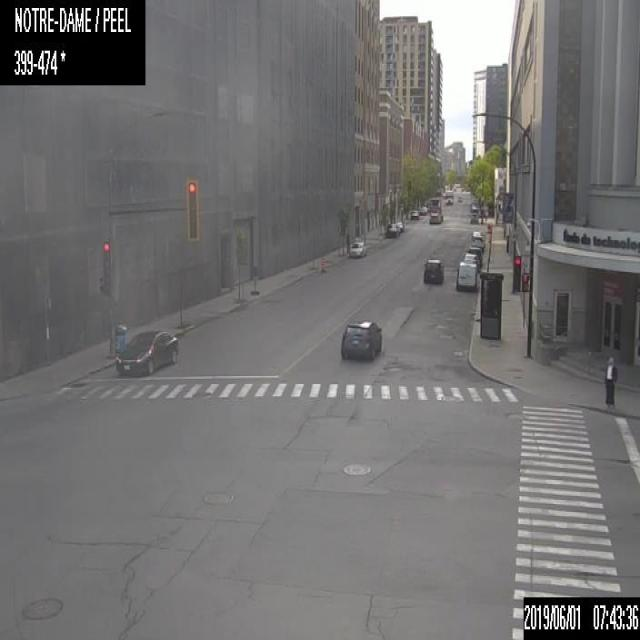construction: (318, 255, 326, 276)
pedestrian: (603, 356, 617, 404), (345, 229, 350, 256)
vehicle: (114, 327, 179, 376), (339, 318, 383, 362), (455, 260, 477, 290), (422, 256, 443, 284), (427, 196, 442, 223), (348, 240, 368, 257), (463, 252, 480, 270), (467, 245, 482, 265), (471, 230, 484, 248), (384, 222, 399, 237), (445, 189, 454, 203), (392, 220, 403, 231), (409, 208, 418, 219), (419, 205, 426, 215), (457, 195, 463, 202)
